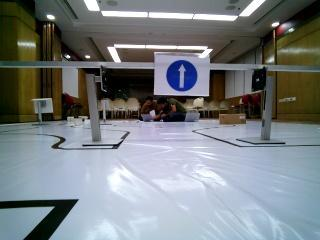straight: (153, 52, 212, 95)
